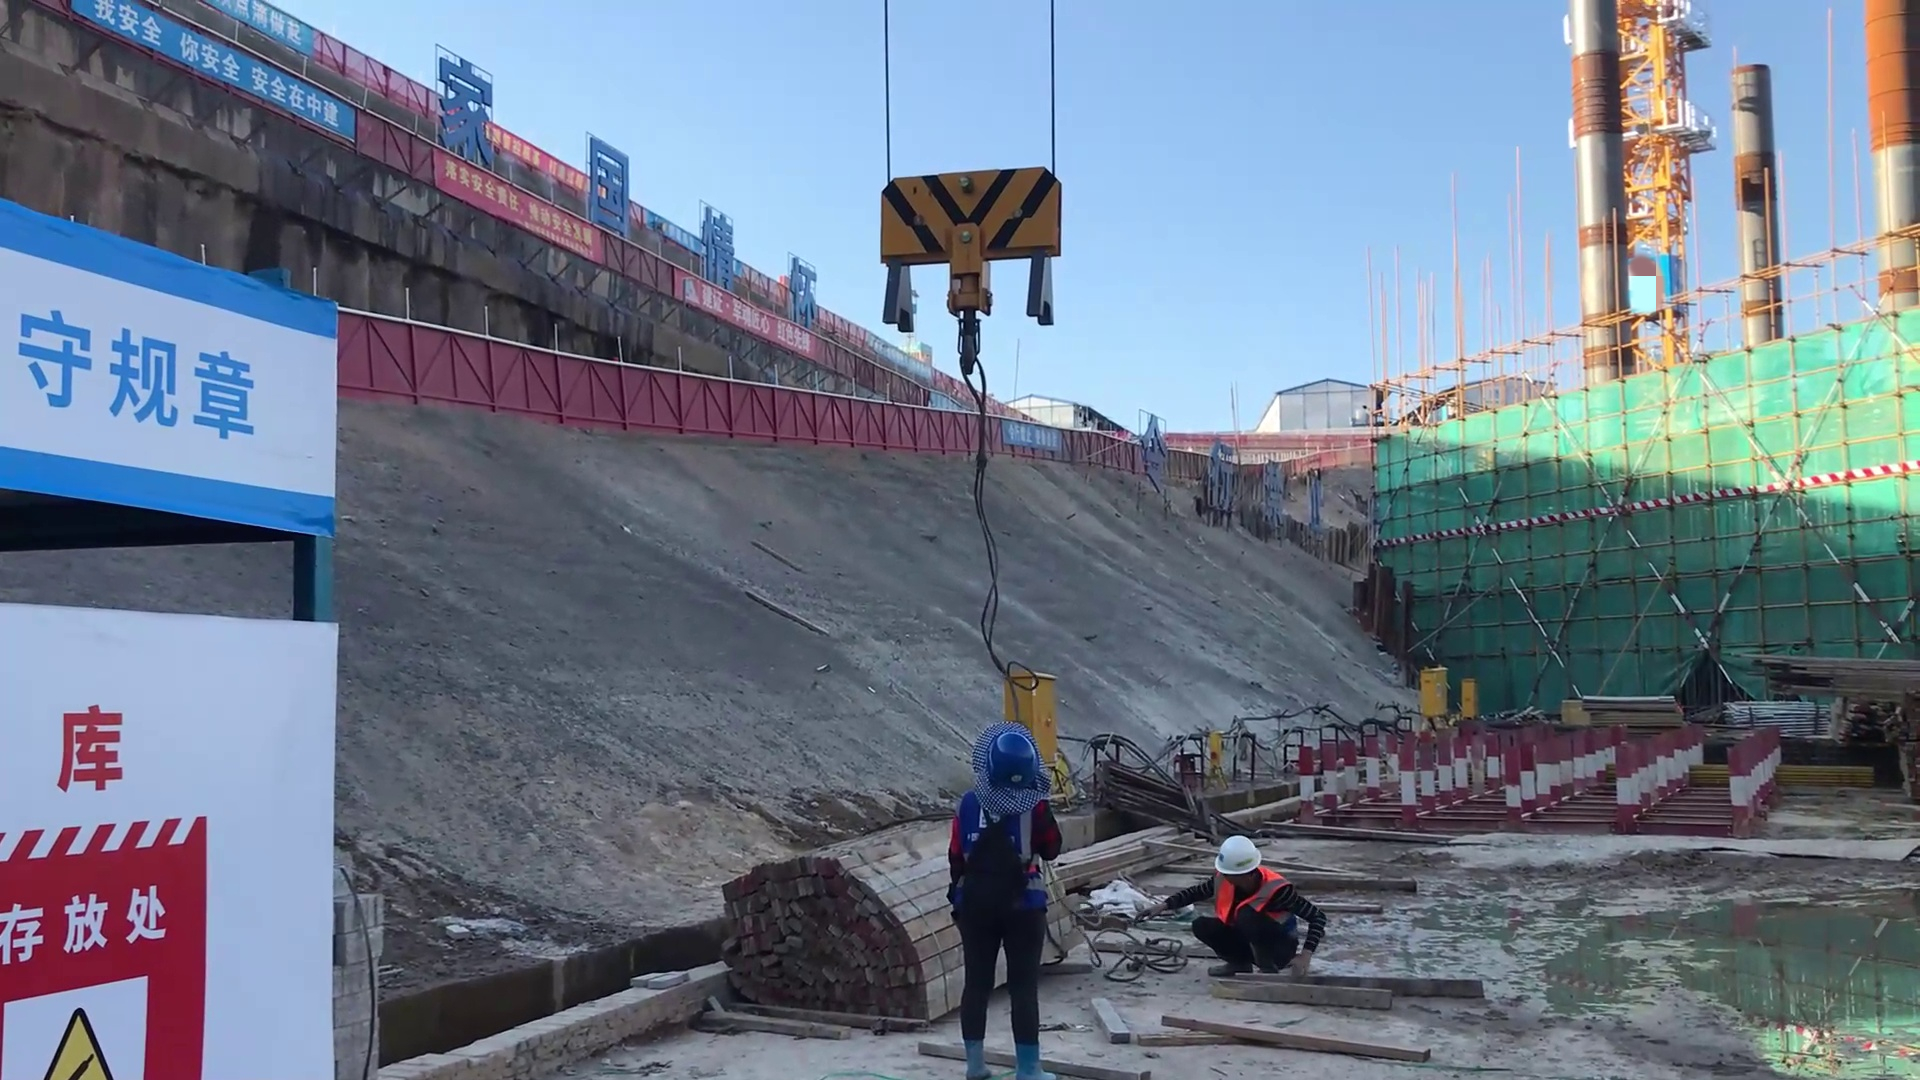ebox: (1005, 666, 1070, 762), (1414, 660, 1451, 722), (1452, 676, 1480, 722)
fence: (338, 307, 823, 449), (822, 398, 1145, 476)
helmet: (1207, 832, 1263, 884), (985, 734, 1040, 779)
hook: (874, 169, 1077, 345)
person: (940, 719, 1056, 1080), (1130, 835, 1330, 985)
slogan: (1, 283, 328, 530), (52, 2, 382, 208), (1, 884, 203, 1070), (406, 149, 614, 304)
wood: (722, 835, 940, 1041), (1738, 637, 1920, 717)
